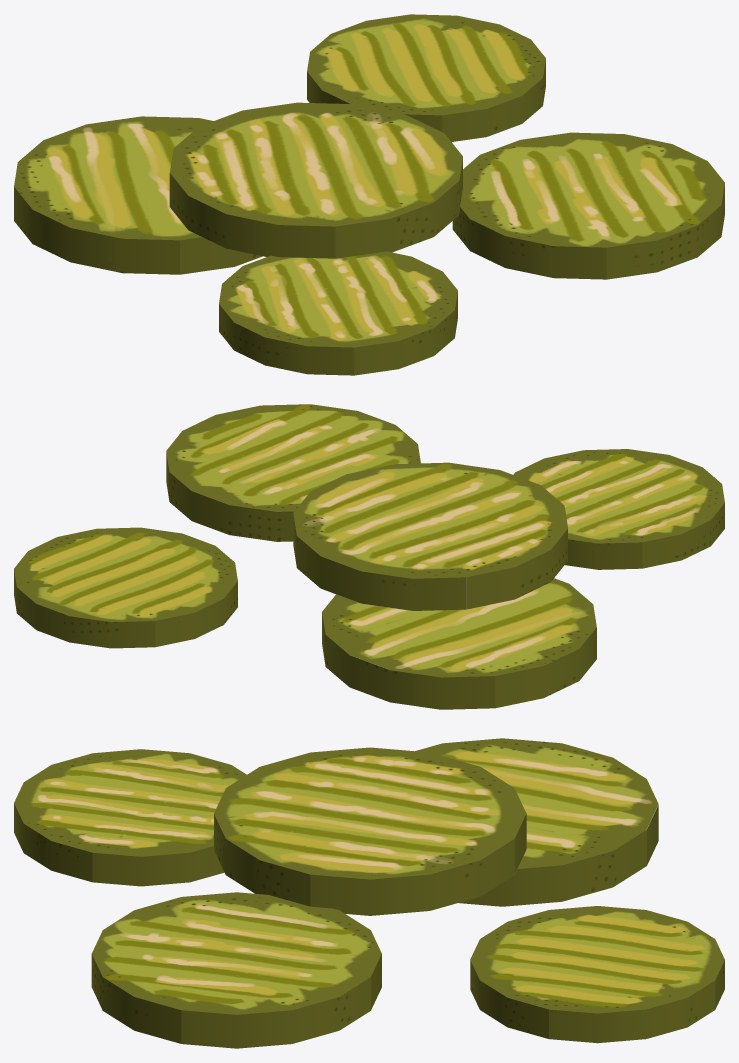
The model's file is Pickles.glb.
3 renders of one model, top to bottom at view 1: azimuth 30°, elevation 25°; view 2: azimuth 150°, elevation 25°; view 3: azimuth 270°, elevation 25°, orthographic. The views are drawn at different scales.
Visible parts, largest first — view 1: Pickles; view 2: Pickles; view 3: Pickles.
Part boxes in pixels (box(x1,y1,x2,y2)): Pickles: box(14, 14, 724, 375); Pickles: box(14, 404, 724, 709); Pickles: box(14, 738, 724, 1048).
Bounding box in the file's own units: 3.46 × 0.4283 × 3.67.
1 material, 1 textured.
